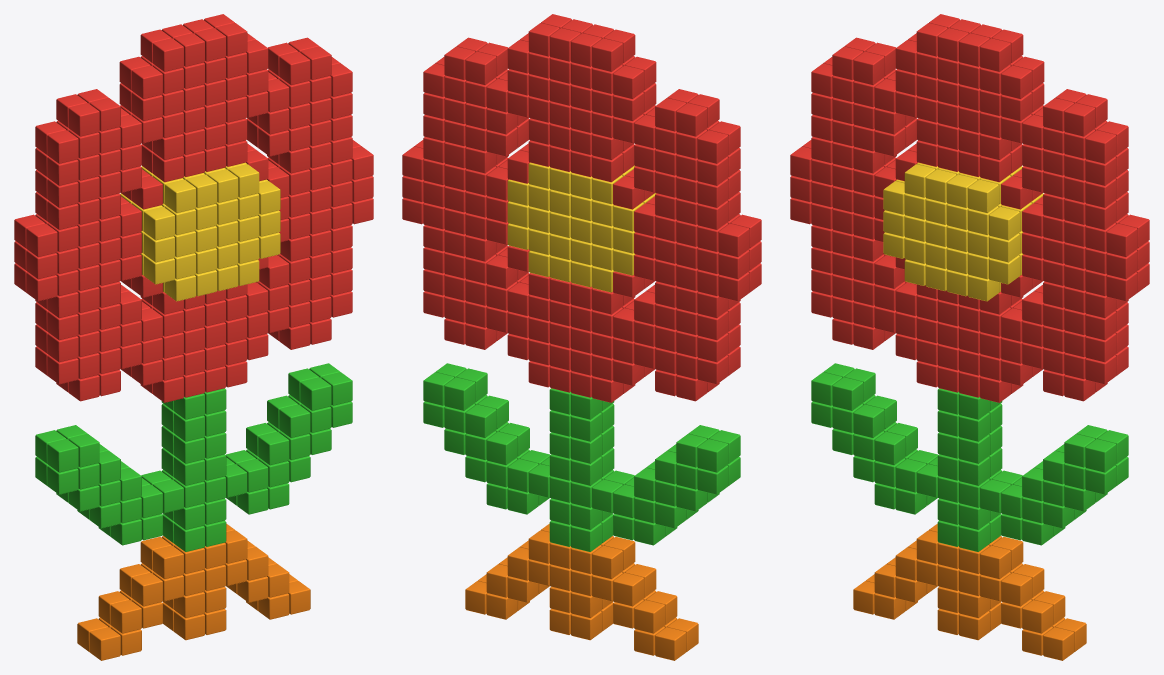
The model's file is Flower_Voxel_V2.fbx.
3 views of the same model, side by side, from view 1: azimuth 30°, elevation 25°; view 2: azimuth 150°, elevation 25°; view 3: azimuth 330°, elevation 25° (orthographic).
Parts seen in each view (by area): view 1: FlowerV2_Voxel_386_Yellow, FlowerV2_Voxel_454_Red, FlowerV2_Voxel_112_Green, FlowerV2_Voxel_000_Orange, FlowerV2_Voxel_106_Green, FlowerV2_Voxel_120_Green, FlowerV2_Voxel_482_Red, FlowerV2_Voxel_502_Red, FlowerV2_Voxel_024_Orange, FlowerV2_Voxel_090_Green, FlowerV2_Voxel_340_Red, FlowerV2_Voxel_498_Red (+84 smaller); view 2: FlowerV2_Voxel_455_Red, FlowerV2_Voxel_113_Green, FlowerV2_Voxel_001_Orange, FlowerV2_Voxel_107_Green, FlowerV2_Voxel_121_Green, FlowerV2_Voxel_483_Red, FlowerV2_Voxel_503_Red, FlowerV2_Voxel_025_Orange, FlowerV2_Voxel_091_Green, FlowerV2_Voxel_341_Red, FlowerV2_Voxel_499_Red, FlowerV2_Voxel_013_Orange (+78 smaller); view 3: FlowerV2_Voxel_395_Yellow, FlowerV2_Voxel_480_Red, FlowerV2_Voxel_122_Green, FlowerV2_Voxel_010_Orange, FlowerV2_Voxel_100_Green, FlowerV2_Voxel_114_Green, FlowerV2_Voxel_500_Red, FlowerV2_Voxel_512_Red, FlowerV2_Voxel_034_Orange, FlowerV2_Voxel_084_Green, FlowerV2_Voxel_376_Red, FlowerV2_Voxel_484_Red (+84 smaller).
Boxes of the visible parts, x1,y1,x2,y2 form: FlowerV2_Voxel_386_Yellow: [165, 179, 196, 213]; FlowerV2_Voxel_454_Red: [47, 130, 78, 163]; FlowerV2_Voxel_112_Green: [47, 439, 78, 472]; FlowerV2_Voxel_000_Orange: [89, 627, 120, 660]; FlowerV2_Voxel_106_Green: [279, 404, 310, 437]; FlowerV2_Voxel_120_Green: [300, 377, 331, 410]; FlowerV2_Voxel_482_Red: [68, 103, 99, 136]; FlowerV2_Voxel_502_Red: [131, 65, 162, 99]; FlowerV2_Voxel_024_Orange: [131, 573, 162, 606]; FlowerV2_Voxel_090_Green: [258, 431, 289, 465]; FlowerV2_Voxel_340_Red: [26, 223, 57, 257]; FlowerV2_Voxel_498_Red: [279, 51, 310, 85]; FlowerV2_Voxel_455_Red: [697, 130, 728, 163]; FlowerV2_Voxel_113_Green: [697, 439, 728, 472]; FlowerV2_Voxel_001_Orange: [655, 627, 686, 660]; FlowerV2_Voxel_107_Green: [465, 404, 496, 437]; FlowerV2_Voxel_121_Green: [444, 377, 475, 410]; FlowerV2_Voxel_483_Red: [676, 103, 707, 136]; FlowerV2_Voxel_503_Red: [613, 65, 644, 99]; FlowerV2_Voxel_025_Orange: [613, 573, 644, 606]; FlowerV2_Voxel_091_Green: [486, 431, 517, 465]; FlowerV2_Voxel_341_Red: [718, 223, 749, 257]; FlowerV2_Voxel_499_Red: [465, 51, 496, 85]; FlowerV2_Voxel_013_Orange: [634, 600, 665, 633]; FlowerV2_Voxel_395_Yellow: [967, 179, 998, 213]; FlowerV2_Voxel_480_Red: [1085, 130, 1116, 163]; FlowerV2_Voxel_122_Green: [1085, 439, 1116, 472]; FlowerV2_Voxel_010_Orange: [1043, 627, 1074, 660]; FlowerV2_Voxel_100_Green: [853, 404, 884, 437]; FlowerV2_Voxel_114_Green: [832, 377, 863, 410]; FlowerV2_Voxel_500_Red: [1064, 103, 1095, 136]; FlowerV2_Voxel_512_Red: [1001, 65, 1032, 99]; FlowerV2_Voxel_034_Orange: [1001, 573, 1032, 606]; FlowerV2_Voxel_084_Green: [874, 431, 905, 465]; FlowerV2_Voxel_376_Red: [1106, 223, 1137, 257]; FlowerV2_Voxel_484_Red: [853, 51, 884, 85].
Bounding box in the file's own units: 383 × 647 × 71.4.
